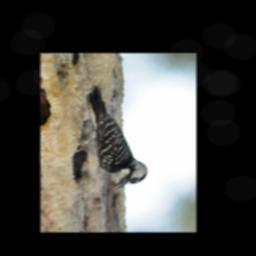Woodpecker: (77, 86, 149, 190)
